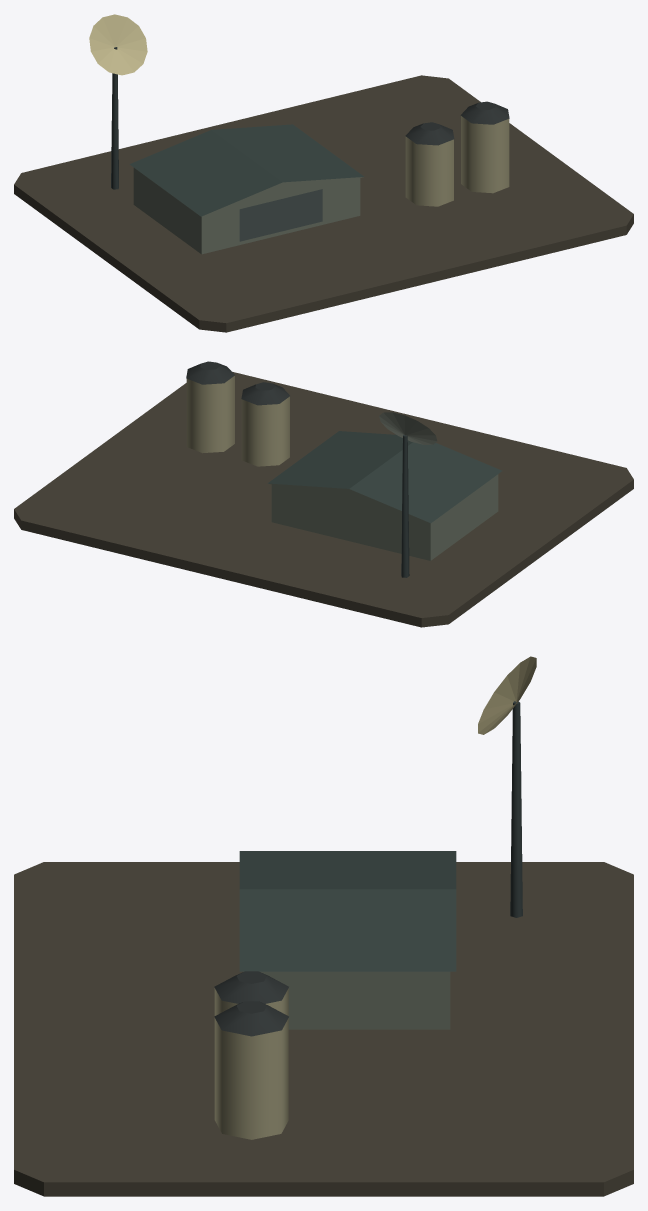
File: outpost.glb
3 renders of one model, top to bottom at view 1: azimuth 30°, elevation 25°; view 2: azimuth 150°, elevation 25°; view 3: azimuth 270°, elevation 25°, orthographic. The views are drawn at different scales.
Parts seen in each view (by area): view 1: outpost; view 2: outpost; view 3: outpost.
Boxes of the visible parts, <box> form: outpost: <box>14,14,633,332</box>; outpost: <box>14,361,633,627</box>; outpost: <box>14,656,633,1196</box>.
Size of the model in its own units: 126 by 48.93 by 103.
